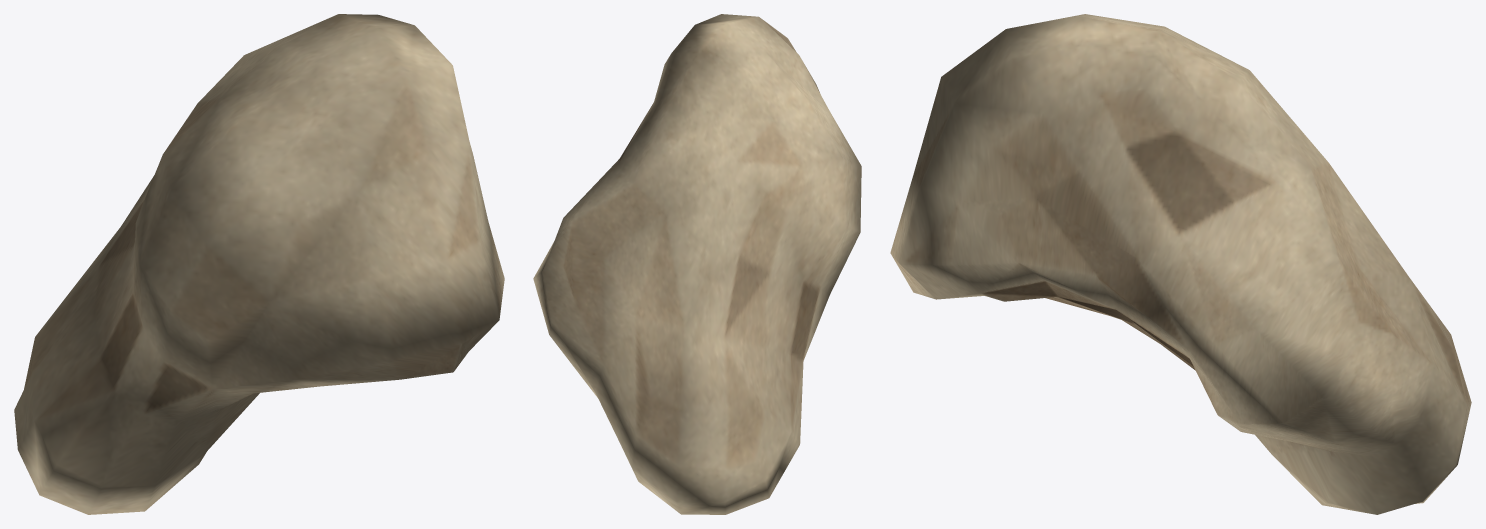
Rendered from Ulnar.glb.
3 renders of one model, left to right at view 1: azimuth 30°, elevation 25°; view 2: azimuth 150°, elevation 25°; view 3: azimuth 270°, elevation 25°, orthographic. The views are drawn at different scales.
Visible parts, largest first — view 1: Ulnar_Right1:Group16114; view 2: Ulnar_Right1:Group16114; view 3: Ulnar_Right1:Group16114.
Part boxes in pixels (bbox=[...]): Ulnar_Right1:Group16114: bbox=[14, 14, 504, 514]; Ulnar_Right1:Group16114: bbox=[533, 14, 861, 514]; Ulnar_Right1:Group16114: bbox=[890, 14, 1471, 514].
Size of the model in its own units: 10.49 by 14.58 by 14.17.
Materials: 1 (1 with a texture image).
